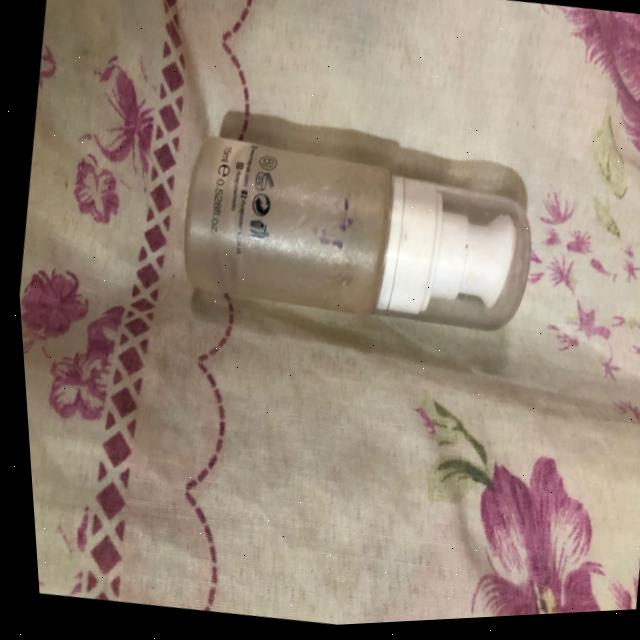foundation: (152, 125, 554, 371)
